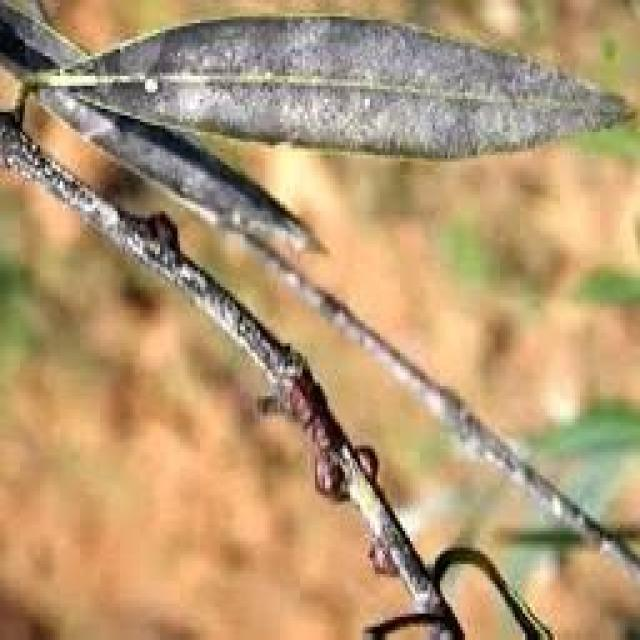BlackScale: (282, 345, 382, 505)
